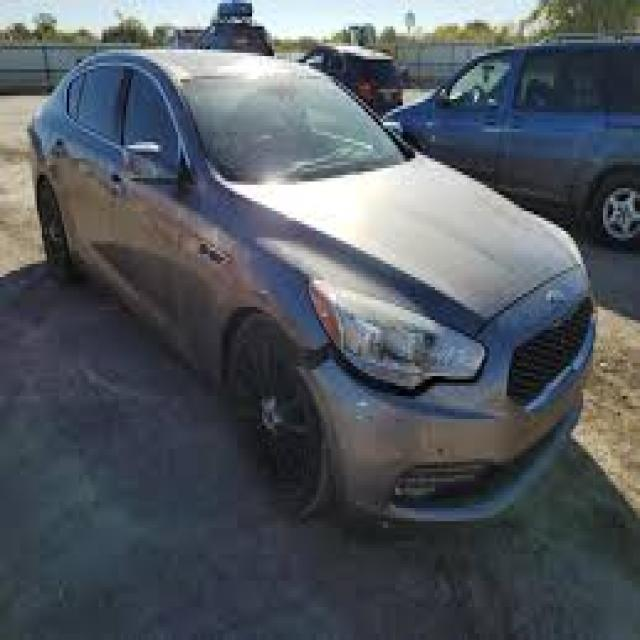minor: (222, 253, 358, 437)
